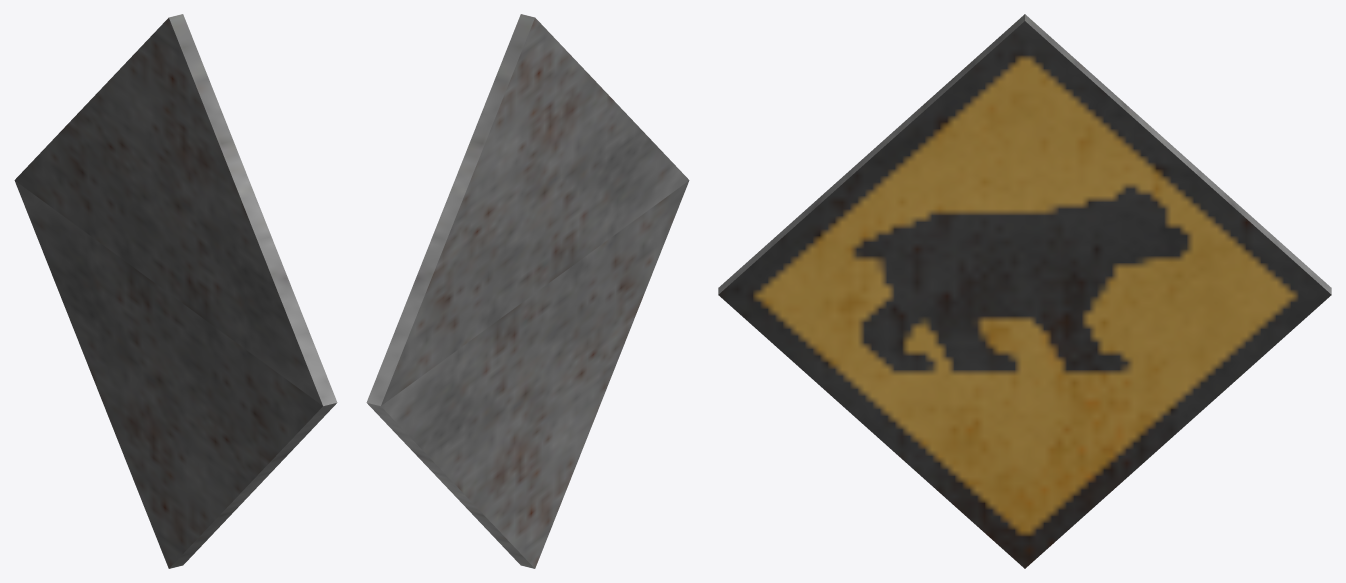
The model's file is Sign_19_Plate.fbx.
3 renders of one model, left to right at view 1: azimuth 30°, elevation 25°; view 2: azimuth 150°, elevation 25°; view 3: azimuth 270°, elevation 25°, orthographic.
Parts seen in each view (by area): view 1: Sign_19_Plate; view 2: Sign_19_Plate; view 3: Sign_19_Plate.
Part boxes in pixels (left/top/right/bottom): Sign_19_Plate: left=14, top=14, right=337, bottom=568; Sign_19_Plate: left=366, top=14, right=689, bottom=568; Sign_19_Plate: left=718, top=14, right=1331, bottom=568.
Bounding box in the file's own units: 1.52 × 55.84 × 56.65.
